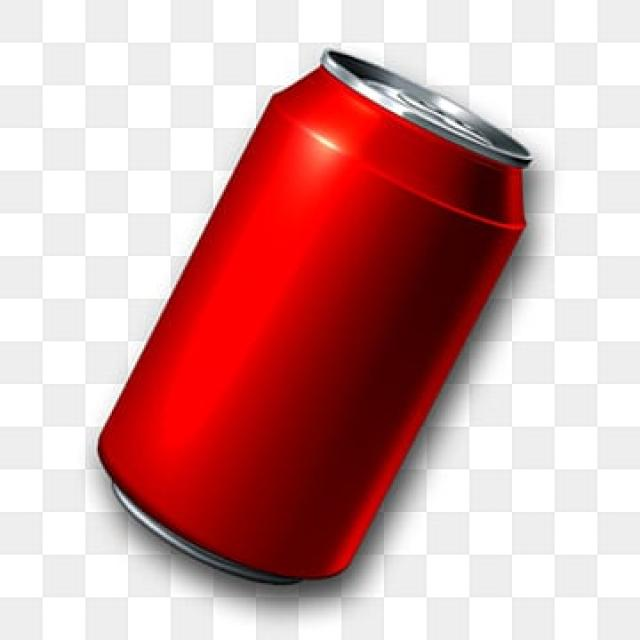soda_can: (62, 29, 564, 622)
